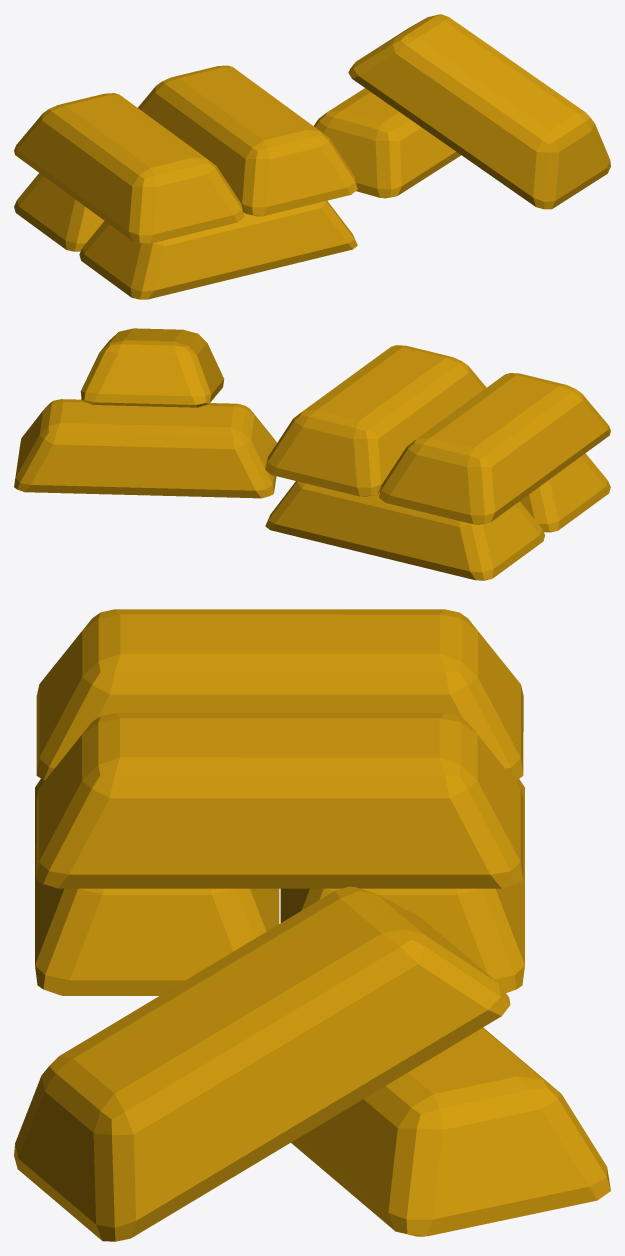
Rendered from GoldBars.fbx.
3 renders of one model, top to bottom at view 1: azimuth 30°, elevation 25°; view 2: azimuth 150°, elevation 25°; view 3: azimuth 270°, elevation 25°, orthographic. The views are drawn at different scales.
Visible parts, largest first — view 1: GoldBars01, GoldBars02; view 2: GoldBars01, GoldBars02; view 3: GoldBars01, GoldBars02.
Boxes of the visible parts, x1,y1,x2,y2 form: GoldBars01: (14, 65, 357, 299); GoldBars02: (314, 14, 610, 209); GoldBars01: (265, 345, 610, 580); GoldBars02: (14, 328, 276, 498); GoldBars01: (35, 609, 524, 995); GoldBars02: (14, 886, 610, 1241).
Bounding box in the file's own units: 0.5377 × 0.1262 × 0.2994.
Materials: 1 (1 with a texture image).
